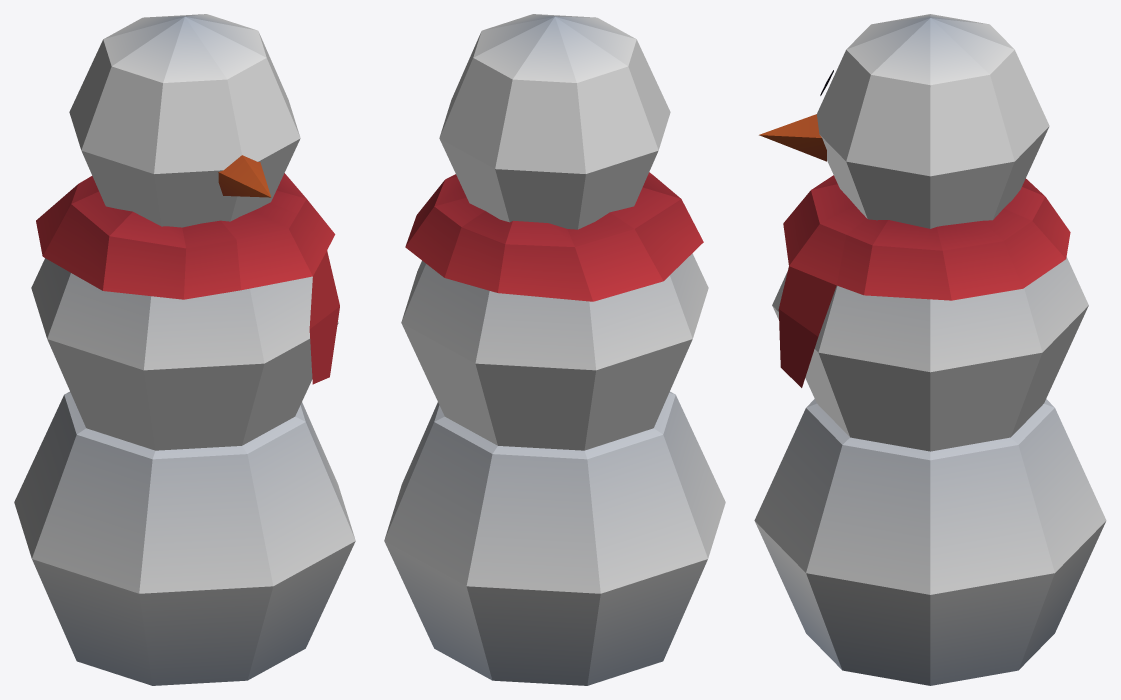
The model's file is Snowman.fbx.
3 views of the same model, side by side, from view 1: azimuth 30°, elevation 25°; view 2: azimuth 150°, elevation 25°; view 3: azimuth 270°, elevation 25° (orthographic).
Visible parts, largest first — view 1: Snowman; view 2: Snowman; view 3: Snowman.
Part boxes in pixels (left/top/right/bottom): Snowman: left=14, top=14, right=355, bottom=685; Snowman: left=384, top=14, right=725, bottom=685; Snowman: left=754, top=14, right=1106, bottom=685.
Size of the model in its own units: 105 by 207 by 105.
